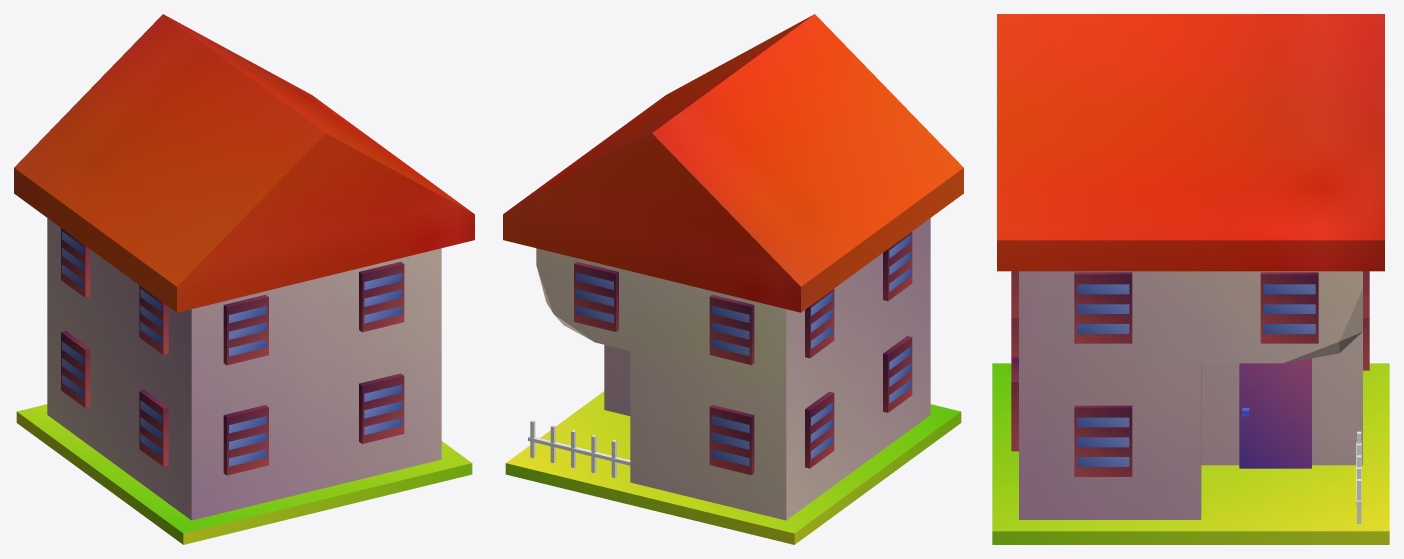
Rendered from House_5.glb.
The picture shows the model from 3 angles, left to right: view 1: azimuth 30°, elevation 25°; view 2: azimuth 150°, elevation 25°; view 3: azimuth 270°, elevation 25°; orthographic projection. The views are drawn at different scales.
Visible parts, largest first — view 1: House_5; view 2: House_5; view 3: House_5.
Boxes of the visible parts, x1,y1,x2,y2 form: House_5: (14, 14, 474, 544); House_5: (503, 14, 963, 544); House_5: (992, 14, 1389, 544).
Bounding box in the file's own units: 736 × 885 × 713.
Materials: 1 (1 with a texture image).
